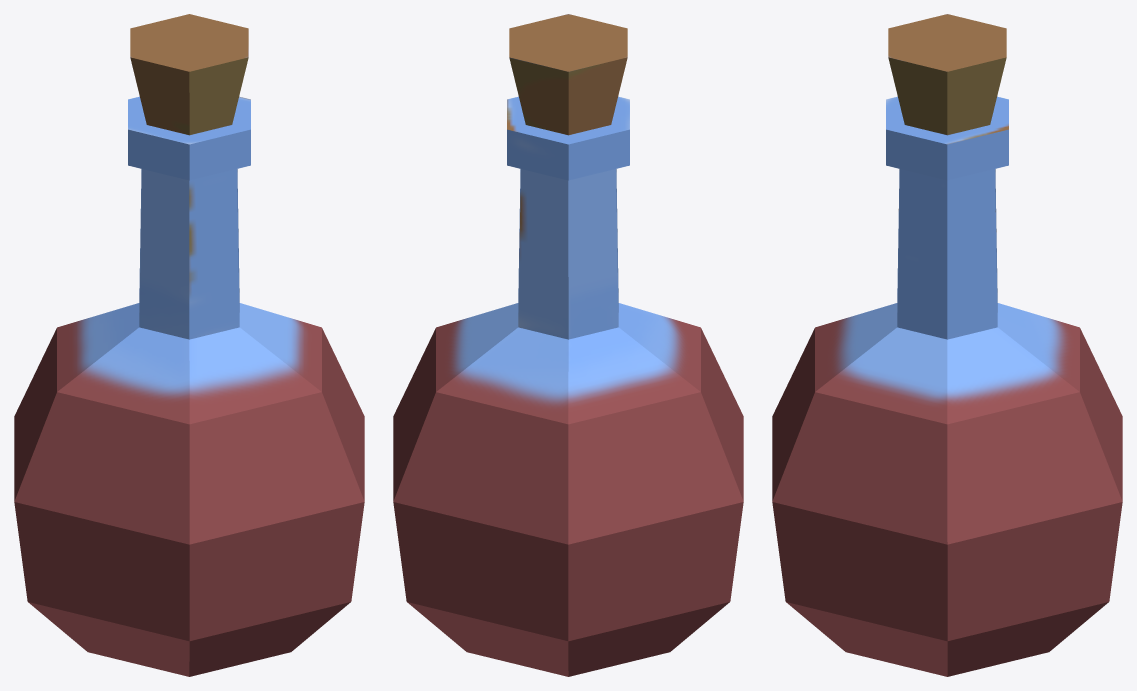
The model's file is bootle_m.fbx.
The picture shows the model from 3 angles, left to right: view 1: azimuth 30°, elevation 25°; view 2: azimuth 150°, elevation 25°; view 3: azimuth 270°, elevation 25°; orthographic projection.
Visible parts, largest first — view 1: uploads_files_771846_Bottle_116P_OBJ; view 2: uploads_files_771846_Bottle_116P_OBJ; view 3: uploads_files_771846_Bottle_116P_OBJ.
Part boxes in pixels (box(x1,y1,x2,y2)): uploads_files_771846_Bottle_116P_OBJ: box(14, 14, 364, 676); uploads_files_771846_Bottle_116P_OBJ: box(393, 14, 743, 676); uploads_files_771846_Bottle_116P_OBJ: box(772, 14, 1122, 676).
Size of the model in its own units: 43.29 by 68.99 by 37.49.
1 material, 1 textured.
